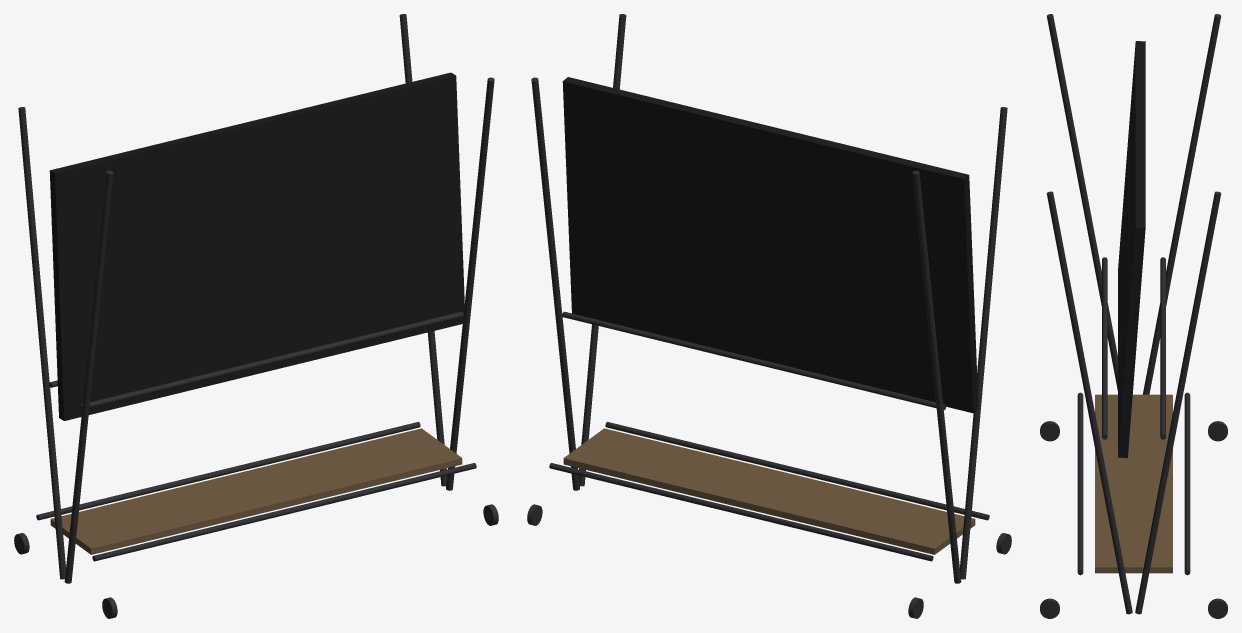
File: rolling_tv_stand_candidate.glb
3 views of the same model, side by side, from view 1: azimuth 30°, elevation 25°; view 2: azimuth 150°, elevation 25°; view 3: azimuth 270°, elevation 25° (orthographic). The views are drawn at different scales.
Parts seen in each view (by area): view 1: Cube.001, Cube, Cylinder.001, Cylinder, Cylinder.002, Cylinder.004, Cylinder.006, Cylinder.005, Cylinder.003; view 2: Cube.001, Cube, Cylinder, Cylinder.001, Cylinder.003, Cylinder.005, Cylinder.007, Cylinder.004, Cylinder.002; view 3: Cube, Cube.001, Cylinder.002, Cylinder.003, Cylinder.001, Cylinder, Cylinder.004, Cylinder.005, Cylinder.006, Cylinder.007, Cylinder.008, Cylinder.009 (+2 smaller).
Part boxes in pixels (bbox=[...]): Cube.001: bbox=[49, 72, 464, 420]; Cube: bbox=[50, 428, 462, 554]; Cylinder.001: bbox=[18, 107, 65, 579]; Cylinder: bbox=[64, 170, 113, 583]; Cylinder.002: bbox=[446, 77, 494, 490]; Cylinder.004: bbox=[92, 463, 476, 561]; Cylinder.006: bbox=[79, 311, 463, 410]; Cylinder.005: bbox=[36, 422, 420, 520]; Cylinder.003: bbox=[399, 14, 447, 486]; Cube.001: bbox=[562, 77, 978, 413]; Cube: bbox=[563, 428, 975, 554]; Cylinder: bbox=[960, 107, 1007, 579]; Cylinder.001: bbox=[912, 170, 961, 583]; Cylinder.003: bbox=[531, 77, 579, 490]; Cylinder.005: bbox=[549, 463, 933, 561]; Cylinder.007: bbox=[562, 311, 946, 410]; Cylinder.004: bbox=[605, 422, 989, 520]; Cylinder.002: bbox=[578, 14, 626, 486]; Cube: bbox=[1095, 394, 1172, 573]; Cube.001: bbox=[1118, 41, 1145, 458]; Cylinder.002: bbox=[1046, 191, 1132, 614]; Cylinder.003: bbox=[1135, 191, 1221, 614]; Cylinder.001: bbox=[1143, 14, 1221, 394]; Cylinder: bbox=[1046, 14, 1117, 390]; Cylinder.004: bbox=[1077, 392, 1083, 575]; Cylinder.005: bbox=[1184, 392, 1190, 575]; Cylinder.006: bbox=[1102, 257, 1107, 439]; Cylinder.007: bbox=[1160, 257, 1165, 439]; Cylinder.008: bbox=[1040, 421, 1059, 441]; Cylinder.009: bbox=[1208, 421, 1227, 441].
Size of the model in its own units: 1.22 by 1.29 by 0.5182.
